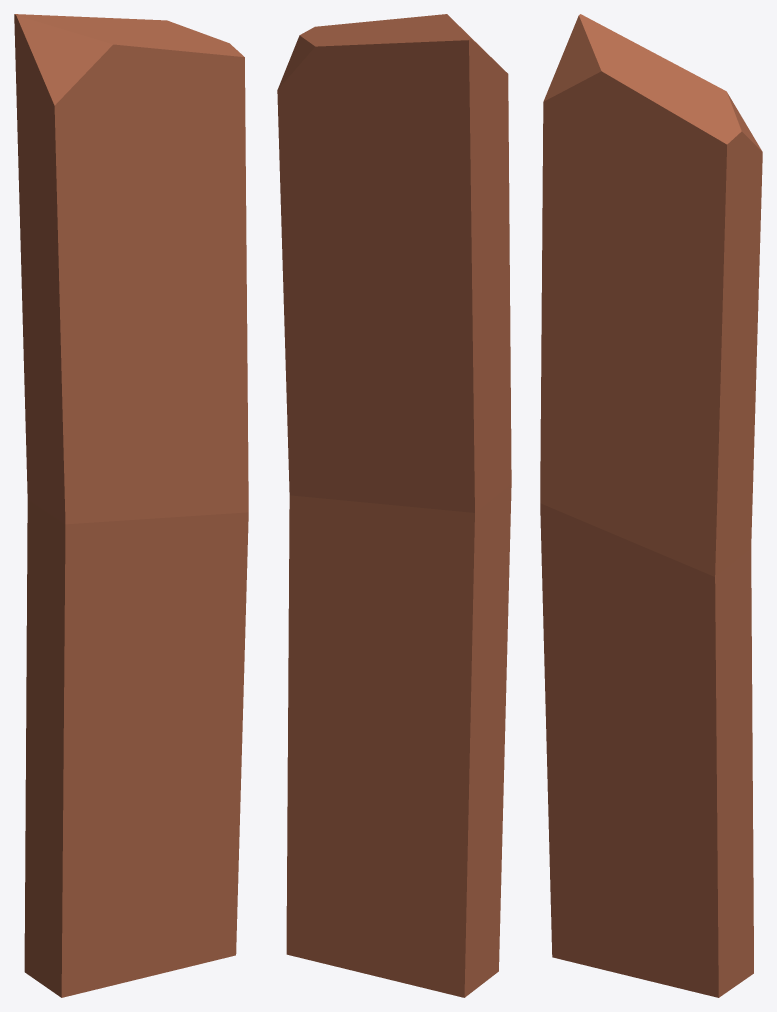
File: Plank 01.fbx
3 renders of one model, left to right at view 1: azimuth 30°, elevation 25°; view 2: azimuth 150°, elevation 25°; view 3: azimuth 330°, elevation 25°, orthographic. The views are drawn at different scales.
Parts seen in each view (by area): view 1: Plank 01; view 2: Plank 01; view 3: Plank 01.
Boxes of the visible parts, x1,y1,x2,y2 form: Plank 01: [14, 14, 248, 997]; Plank 01: [277, 14, 511, 997]; Plank 01: [540, 14, 762, 997].
Size of the model in its own units: 21.41 by 102 by 9.05.
